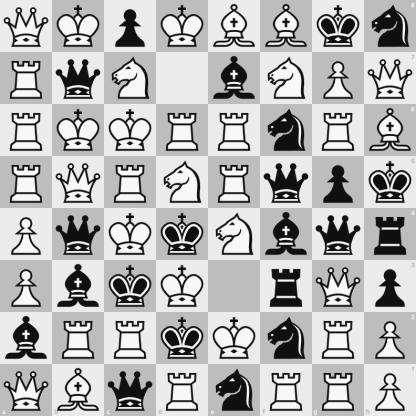B: (52, 364, 104, 416), (364, 104, 416, 156), (209, 1, 260, 52), (261, 1, 312, 52)
K: (53, 1, 104, 52), (53, 105, 104, 156), (105, 105, 156, 156), (105, 209, 156, 260), (157, 1, 208, 52), (157, 261, 208, 312), (209, 313, 260, 364)
N: (105, 53, 156, 104), (157, 157, 208, 208), (209, 209, 260, 260), (261, 53, 312, 104)
P: (364, 312, 416, 364), (364, 364, 416, 416), (1, 209, 52, 260), (1, 261, 52, 312), (313, 53, 364, 104)
Q: (0, 364, 52, 416), (364, 52, 416, 104), (1, 1, 52, 52), (53, 157, 104, 208), (313, 261, 364, 312)
R: (156, 364, 209, 416), (260, 364, 312, 416), (312, 364, 364, 416), (1, 53, 52, 104), (1, 105, 52, 156), (1, 157, 52, 208), (53, 313, 104, 364), (105, 157, 156, 208), (105, 313, 156, 364), (157, 105, 208, 156), (209, 105, 260, 156), (209, 157, 260, 208), (313, 105, 364, 156), (313, 313, 364, 364)
b: (1, 313, 52, 364), (53, 261, 104, 312), (209, 53, 260, 104), (261, 209, 312, 260)
board: (0, 0, 415, 415)
k: (364, 156, 416, 209), (105, 261, 156, 312), (157, 209, 208, 260), (157, 313, 208, 364), (313, 1, 364, 52)
n: (364, 0, 416, 52), (209, 364, 260, 416), (261, 105, 312, 156), (261, 313, 312, 364)
p: (364, 260, 416, 312), (105, 1, 156, 52), (313, 157, 364, 208)
q: (104, 364, 156, 416), (53, 53, 104, 104), (53, 209, 104, 260), (261, 157, 312, 208), (313, 209, 364, 260)
r: (364, 209, 416, 260), (261, 261, 312, 312)
